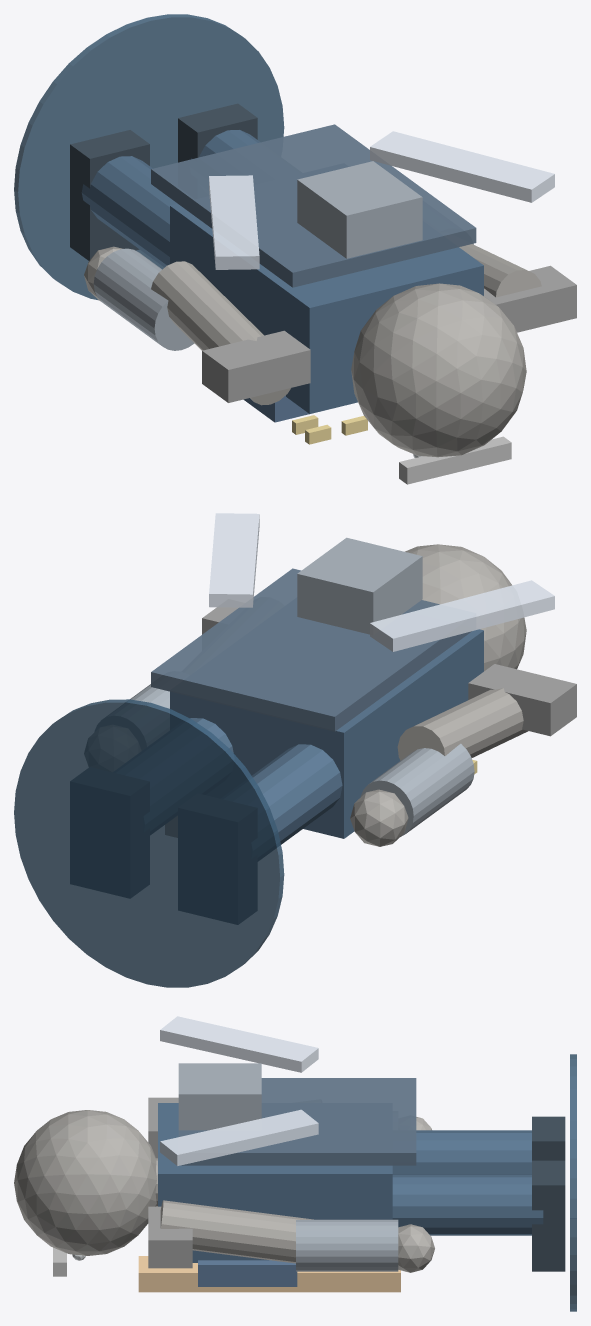
The model's file is SW_NPC_032_galen_vossmark.glb.
3 renders of one model, top to bottom at view 1: azimuth 30°, elevation 25°; view 2: azimuth 150°, elevation 25°; view 3: azimuth 270°, elevation 25°, orthographic. The views are drawn at different scales.
Visible parts, largest first — view 1: round_base_plate, head, torso_uniform, storm_cloak, wingpack_core, right_wing_rig, left_leg, left_stone_pauldron, left_upper_arm, left_forearm_gauntlet, left_boot, left_wing_rig (+6 smaller); view 2: round_base_plate, storm_cloak, torso_uniform, wingpack_core, left_wing_rig, head, left_leg, left_upper_arm, left_forearm_gauntlet, right_wing_rig, left_stone_pauldron, left_hand; view 3: head, storm_cloak, torso_uniform, right_leg, right_upper_arm, left_leg, right_forearm_gauntlet, wingpack_core, rank_sash, left_wing_rig, right_wing_rig, right_boot (+6 smaller).
Part boxes in pixels (<box>): round_base_plate: <box>14,14,284,300</box>; head: <box>351,283,526,457</box>; torso_uniform: <box>170,203,483,413</box>; storm_cloak: <box>151,124,476,287</box>; wingpack_core: <box>297,161,422,258</box>; right_wing_rig: <box>370,131,554,202</box>; left_leg: <box>81,156,177,267</box>; left_stone_pauldron: <box>202,330,310,402</box>; left_upper_arm: <box>151,261,290,405</box>; left_forearm_gauntlet: <box>93,248,194,350</box>; left_boot: <box>70,130,149,260</box>; left_wing_rig: <box>209,175,259,269</box>; round_base_plate: <box>14,699,284,987</box>; storm_cloak: <box>151,568,471,731</box>; torso_uniform: <box>170,629,483,838</box>; wingpack_core: <box>297,537,422,634</box>; left_wing_rig: <box>370,580,554,651</box>; head: <box>405,544,526,671</box>; left_leg: <box>251,744,342,844</box>; left_upper_arm: <box>397,688,528,760</box>; left_forearm_gauntlet: <box>360,743,474,836</box>; right_wing_rig: <box>209,513,259,607</box>; left_stone_pauldron: <box>468,664,576,736</box>; left_hand: <box>350,789,408,846</box>; head: <box>14,1110,156,1255</box>; storm_cloak: <box>178,1078,416,1165</box>; torso_uniform: <box>158,1103,392,1262</box>; right_leg: <box>392,1174,543,1235</box>; right_upper_arm: <box>160,1200,313,1263</box>; left_leg: <box>392,1130,531,1174</box>; right_forearm_gauntlet: <box>296,1219,398,1271</box>; wingpack_core: <box>178,1063,261,1130</box>; rank_sash: <box>138,1256,400,1292</box>; left_wing_rig: <box>160,1016,318,1072</box>; right_wing_rig: <box>160,1109,318,1165</box>; right_boot: <box>532,1160,565,1271</box>.
Size of the model in its own units: 1.32 by 1.01 by 2.2.
